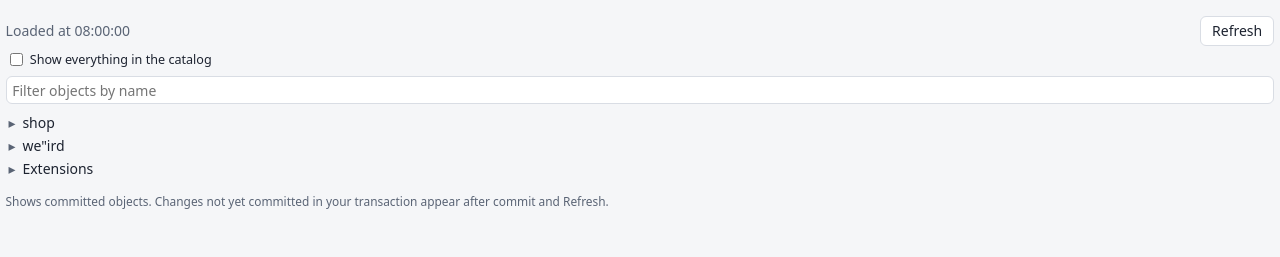
ObjectExplorer › reports object and relation errors in place
Click the button "shop". click: [32, 122]
box: [6,111,58,133]
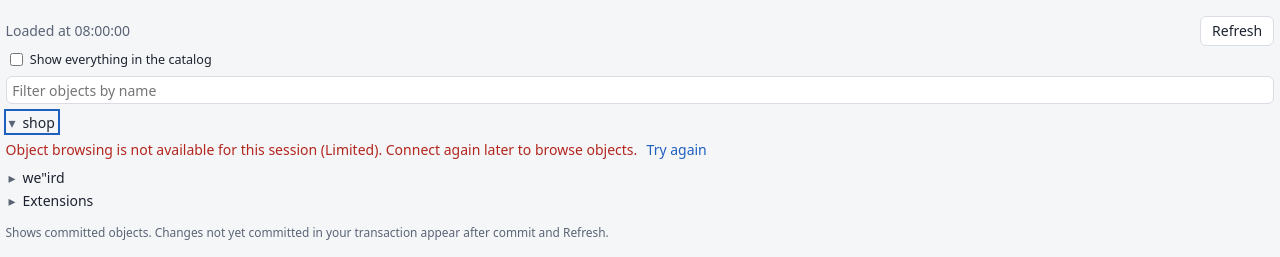
Now the message shows "Limited", box [6,140,637,159]
